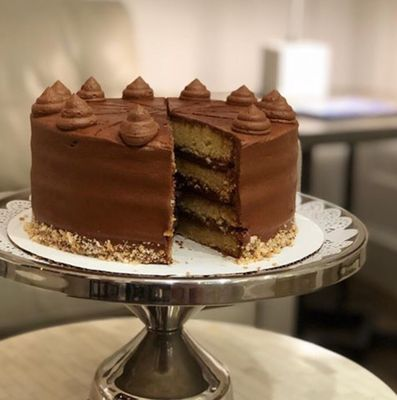sushi: (17, 79, 302, 267)
